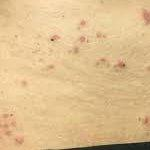Ants: (0, 112, 24, 149), (67, 44, 82, 57), (140, 9, 149, 27), (137, 116, 149, 129), (93, 57, 108, 67), (114, 57, 126, 69), (20, 79, 34, 89), (79, 17, 90, 28), (74, 34, 87, 43), (96, 32, 107, 41), (45, 64, 56, 73), (50, 34, 59, 41), (12, 33, 18, 39)
